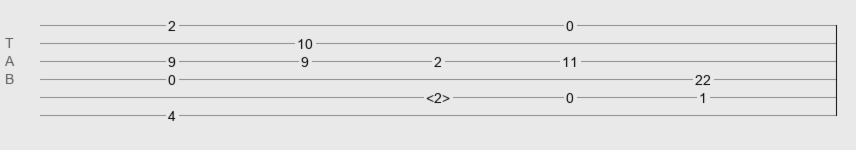0: (168, 72, 176, 82), (566, 90, 574, 100), (566, 18, 574, 28)
1: (699, 90, 707, 100)
10: (297, 36, 313, 46)
11: (562, 54, 578, 64)
2: (168, 18, 176, 28), (434, 54, 442, 64)
22: (695, 72, 711, 82)
4: (168, 108, 176, 118)
9: (168, 54, 176, 64), (301, 54, 309, 64)
harmonic: (426, 90, 450, 100)
